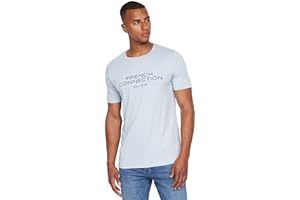design: (117, 70, 163, 88)
